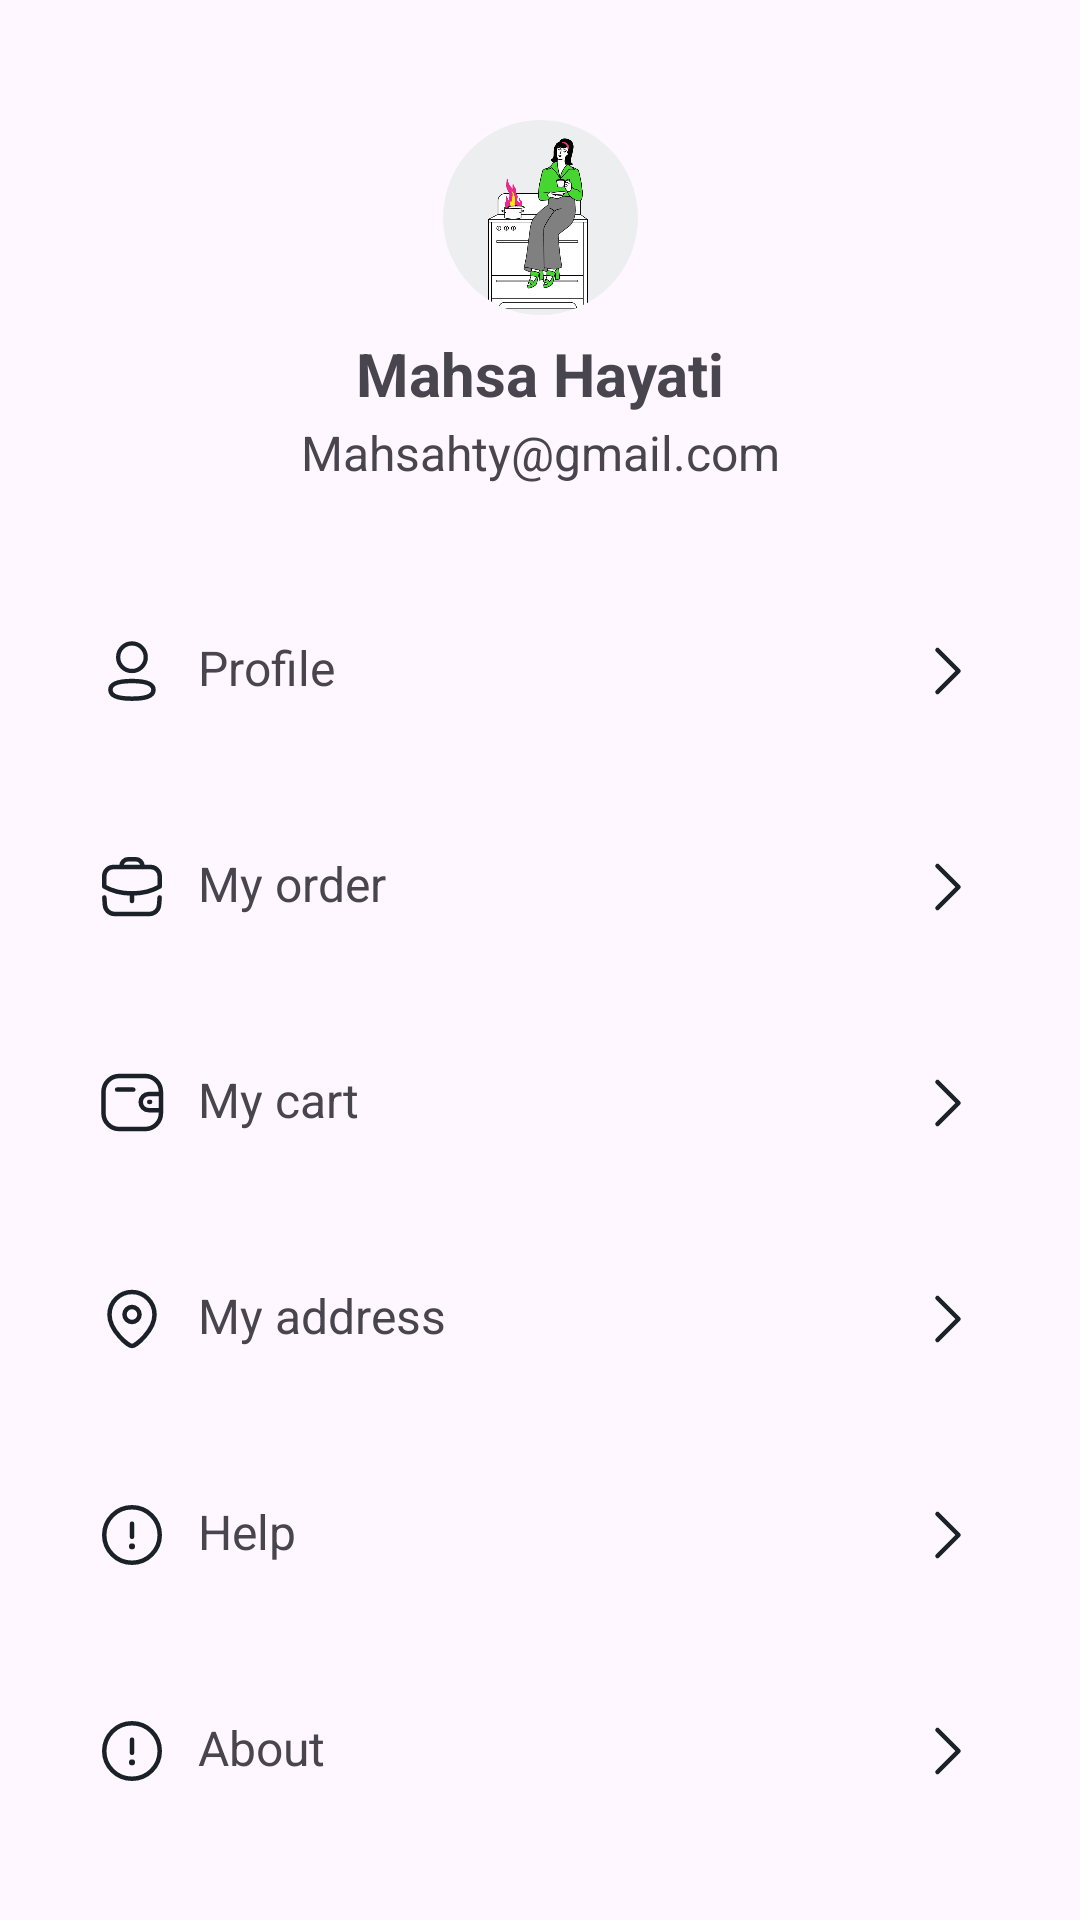

Screen size 1080*1920. Icon name, then its center in pixels as [x,y]:
arrow right: [948,671], [948,887], [948,1103], [948,1319], [948,1535], [948,1751]
avatar: [540,217]
danger circle: [132,1535], [132,1751]
location: [132,1319]
wallet: [132,1102]
work: [132,887]
